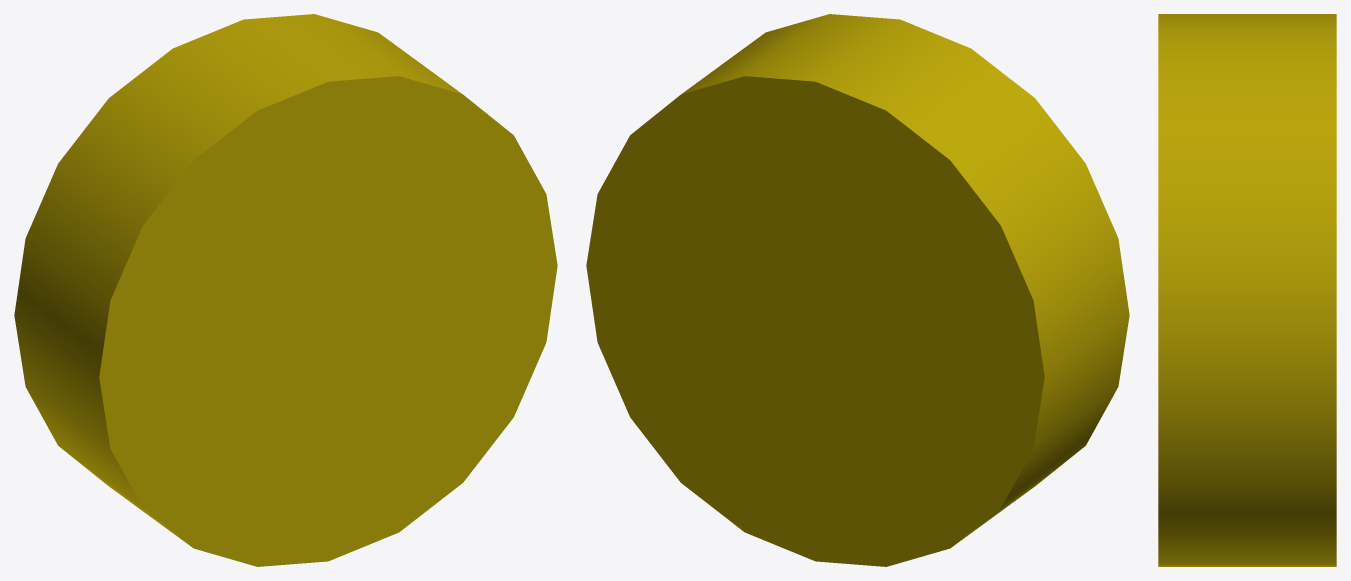
Rendered from ScoreItemMesh.fbx.
The picture shows the model from 3 angles, left to right: view 1: azimuth 30°, elevation 25°; view 2: azimuth 150°, elevation 25°; view 3: azimuth 270°, elevation 25°; orthographic projection. The views are drawn at different scales.
Parts seen in each view (by area): view 1: ScoreItem; view 2: ScoreItem; view 3: ScoreItem.
Boxes of the visible parts, x1,y1,x2,y2 form: ScoreItem: (14, 14, 557, 566); ScoreItem: (586, 14, 1129, 566); ScoreItem: (1158, 14, 1336, 566).
Size of the model in its own units: 200 by 200 by 64.12.
